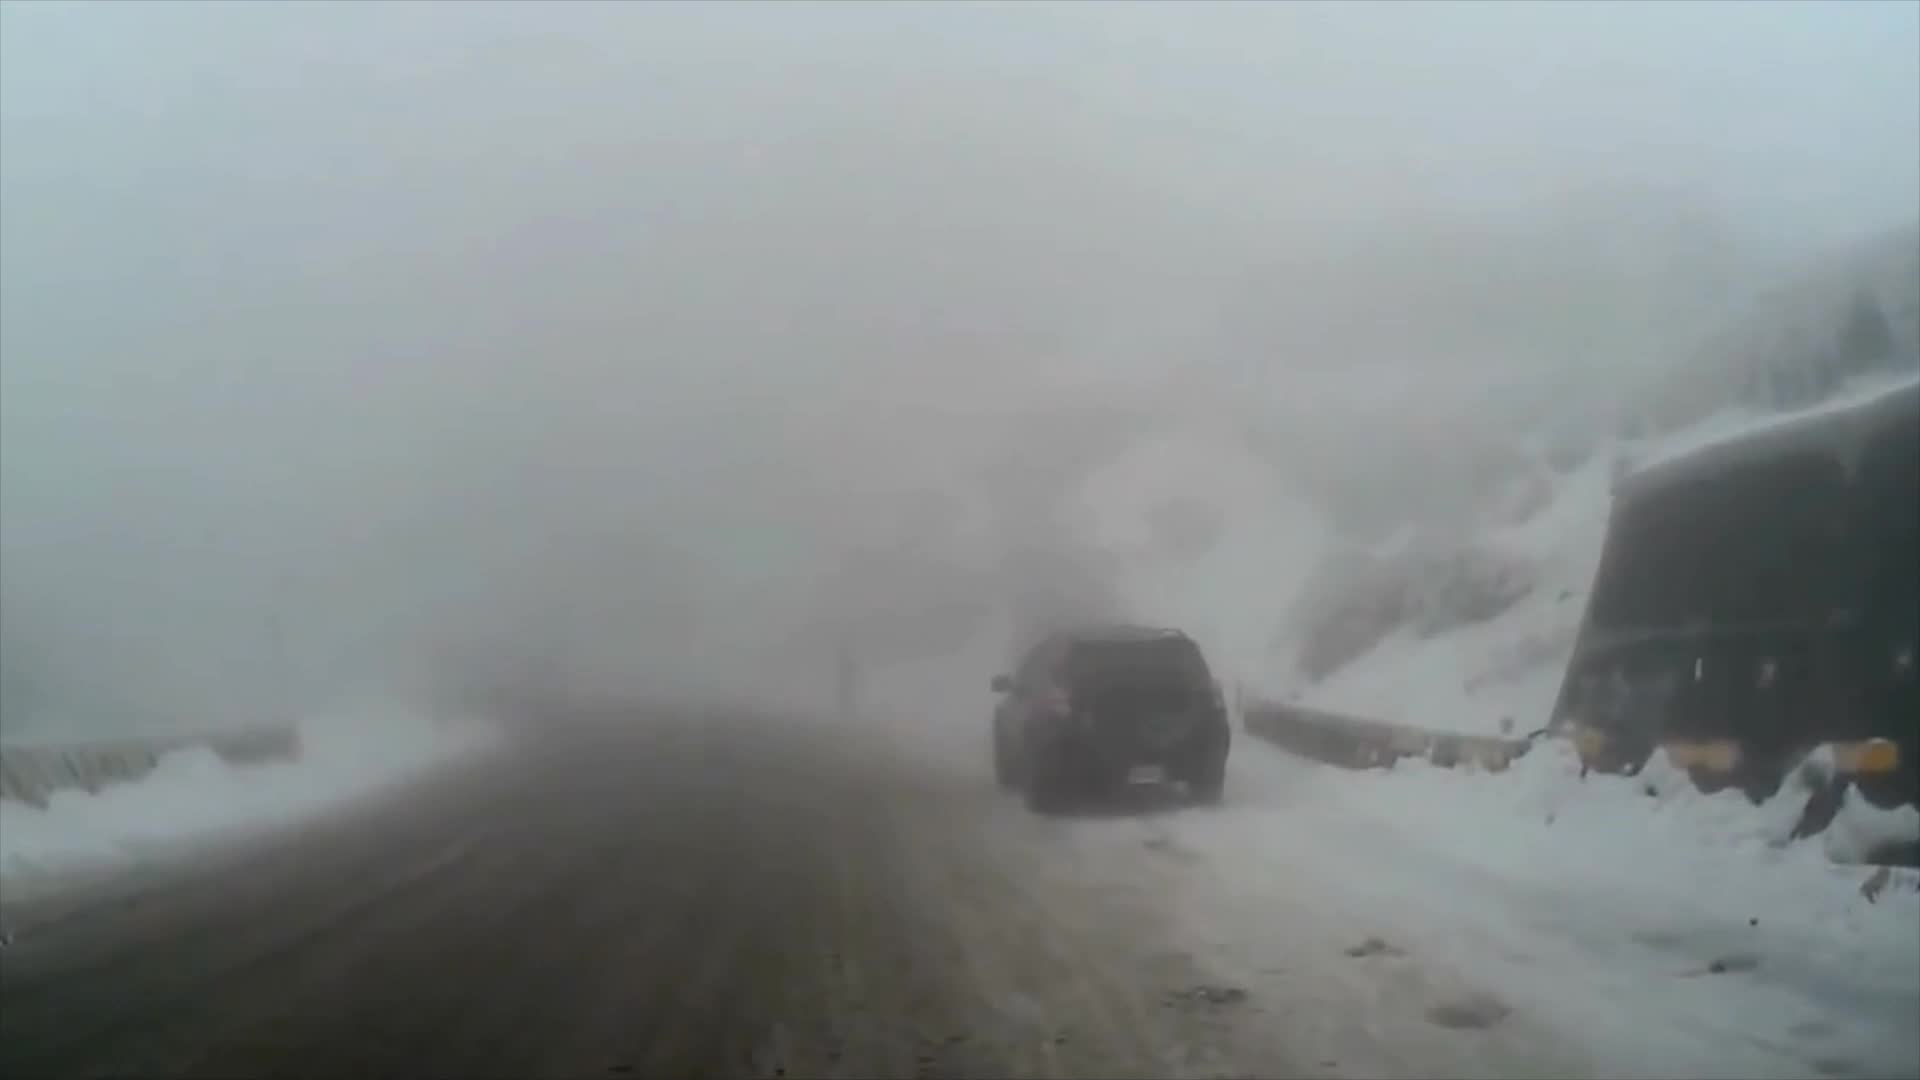vehicle: (985, 616, 1232, 808)
